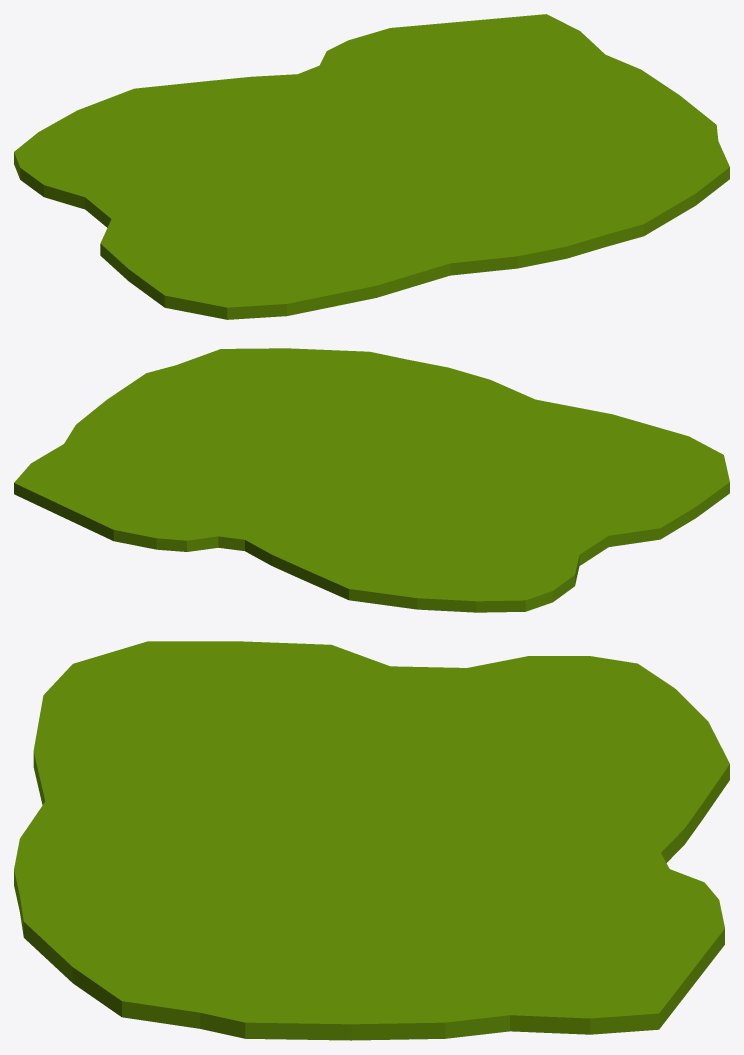
The model's file is Sand 14.FBX.
3 renders of one model, top to bottom at view 1: azimuth 30°, elevation 25°; view 2: azimuth 150°, elevation 25°; view 3: azimuth 270°, elevation 25°, orthographic. The views are drawn at different scales.
Visible parts, largest first — view 1: Plane001; view 2: Plane001; view 3: Plane001.
Part boxes in pixels (x1,y1,x2,y2): Plane001: [14, 14, 729, 319]; Plane001: [14, 348, 729, 612]; Plane001: [14, 641, 729, 1040].
Size of the model in its own units: 126 by 2.49 by 99.66.
